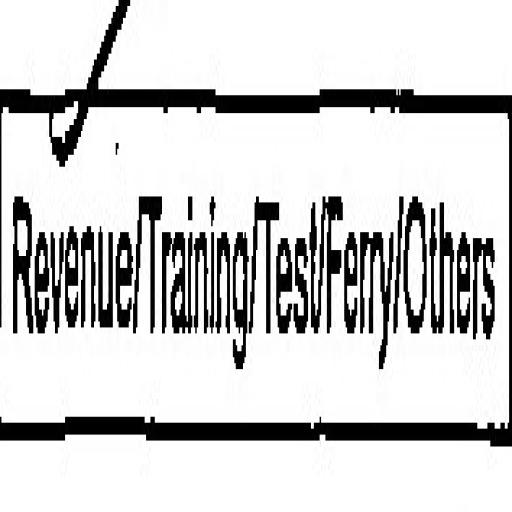check: (0, 0, 139, 457)
